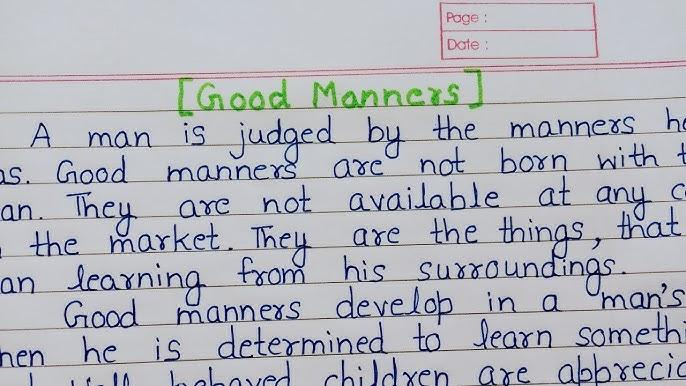text: (0, 203, 682, 271), (0, 308, 684, 372), (28, 104, 686, 166), (1, 179, 686, 238), (0, 245, 628, 309), (0, 138, 686, 188), (62, 279, 686, 333), (29, 347, 686, 386), (175, 67, 484, 118), (445, 11, 480, 28), (446, 36, 479, 52)
